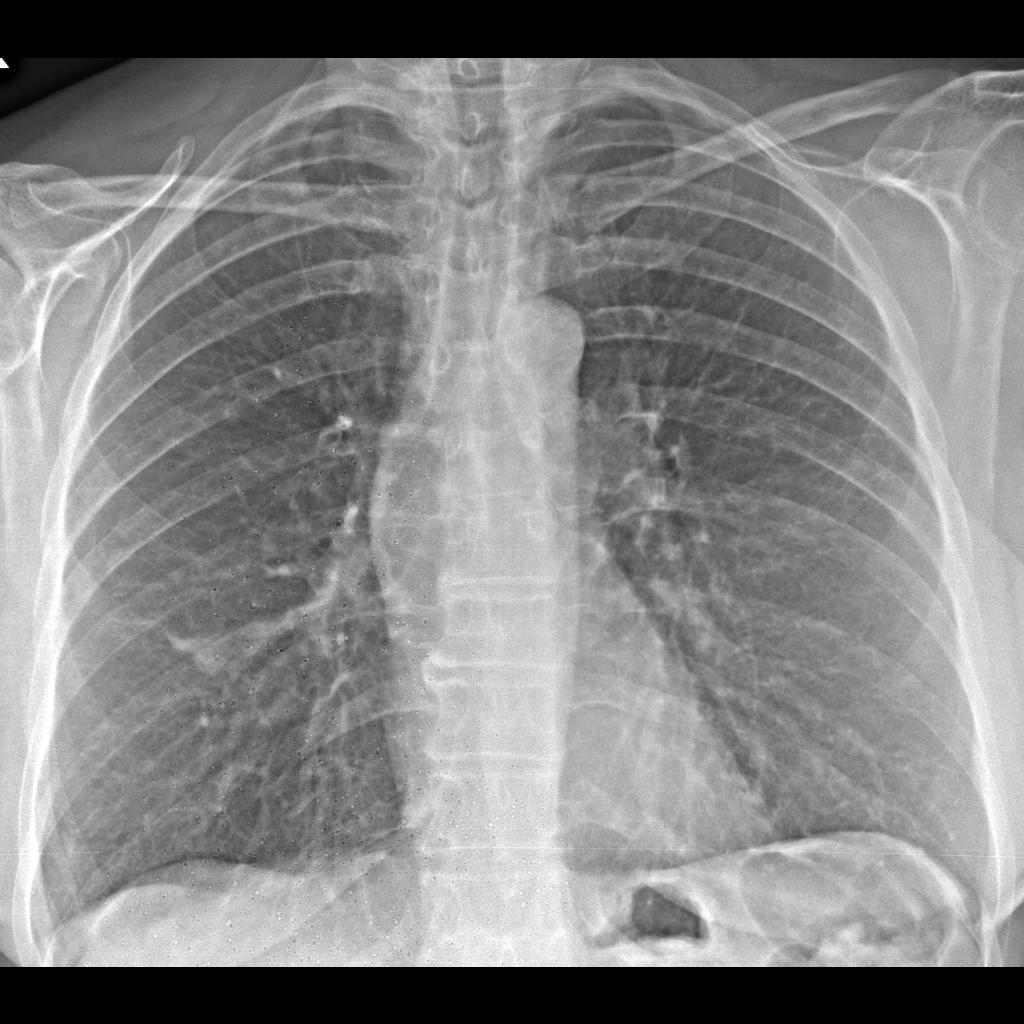Nodule: (182, 643, 237, 682)
